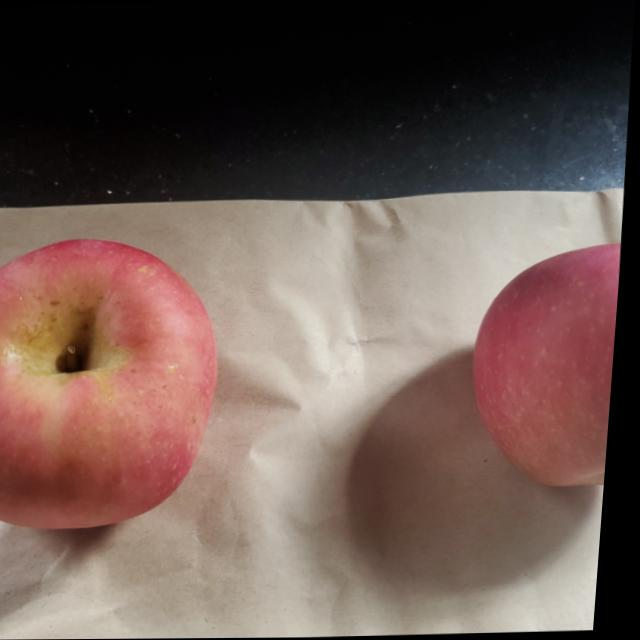apple: (0, 241, 233, 535), (471, 246, 625, 489)
